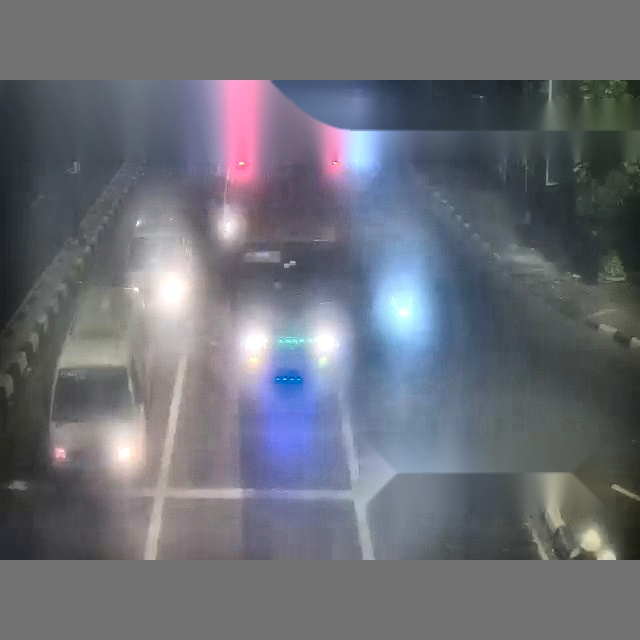Bis: (214, 74, 634, 557)
